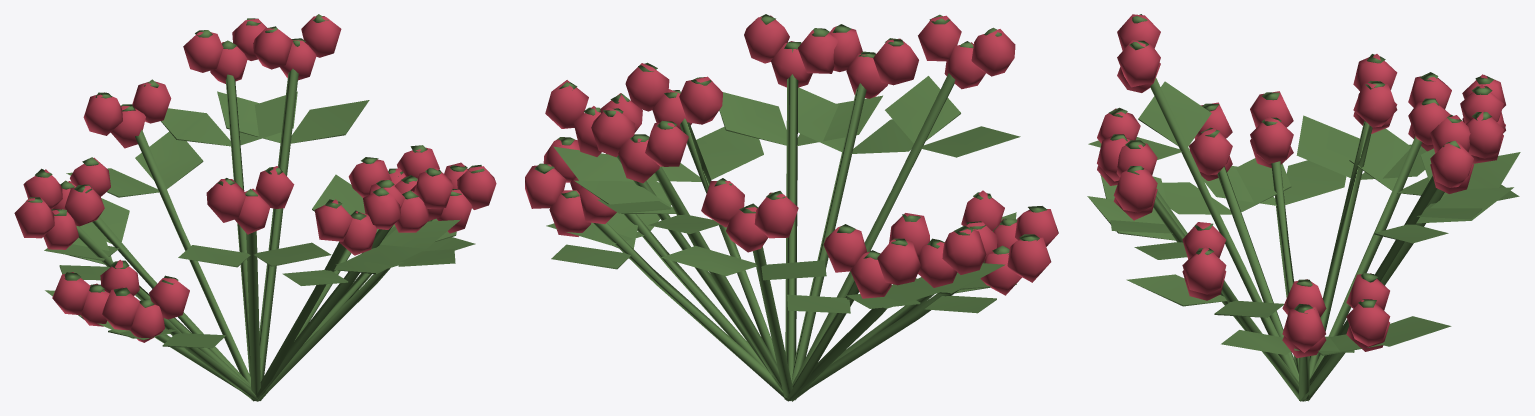
The model's file is berries.glb.
3 renders of one model, left to right at view 1: azimuth 30°, elevation 25°; view 2: azimuth 150°, elevation 25°; view 3: azimuth 270°, elevation 25°, orthographic. The views are drawn at different scales.
Parts seen in each view (by area): view 1: berry branch, berry; view 2: berry branch, berry; view 3: berry branch, berry.
Part boxes in pixels (x1,y1,x2,y2): berry branch: (26,14,484,401); berry: (14,16,496,342); berry branch: (534,14,1047,401); berry: (525,15,1058,298); berry branch: (1087,14,1520,401); berry: (1097,14,1505,358).
Size of the model in its own units: 1.18 by 0.7804 by 0.9312.
